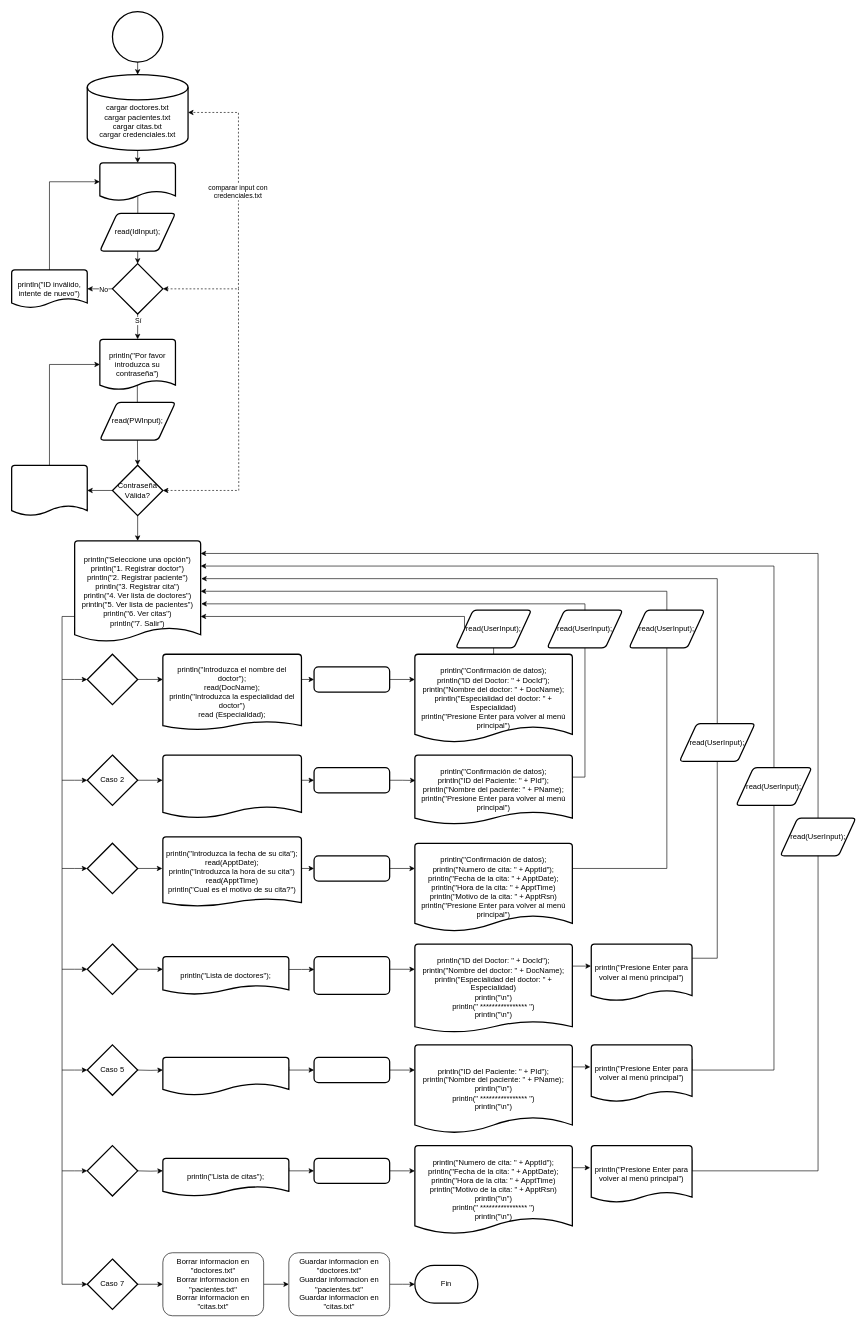
Some shapes in this 867 by 1327 pixel diagram are drawn without their labels. The shapes that lost their labels are listed below. From the top down, each one's box as (x1, y1, x2, y2) in pixels, then its label:
(112, 11, 163, 62): Inicio
(99, 162, 176, 201): println("Por favor introduzca su ID");
(112, 263, 163, 314): ID Válido?
(11, 464, 88, 516): println("Contraseña inválida, intente de nuevo")
(86, 653, 138, 705): Caso 1
(313, 666, 390, 692): Get DocId = Index
(162, 754, 302, 818): println("Introduzca el nombre del paciente"); read(PName);
(313, 767, 390, 793): Get PId = Index
(86, 842, 138, 894): Caso 3
(313, 855, 390, 881): Get ApptId = Index
(86, 943, 138, 995): Caso 4
(313, 956, 390, 995): forEach(DocId)
(162, 1057, 289, 1096): println("Lista de pacientes");
(313, 1057, 390, 1083): forEach(PId)
(86, 1145, 138, 1196): Caso 6
(313, 1157, 390, 1184): forEach(ApptId)
